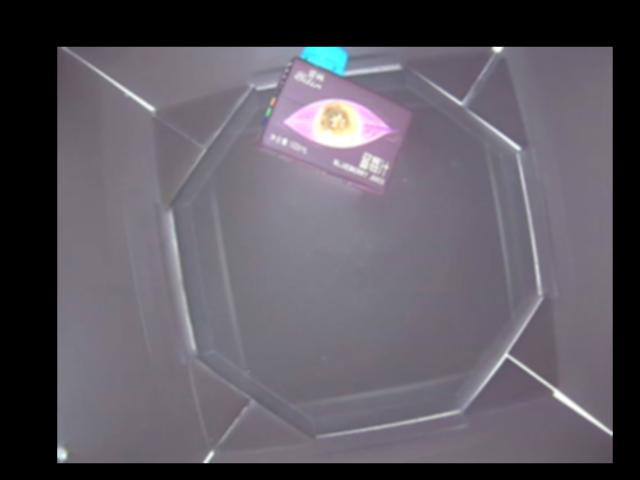Bottle: (260, 47, 413, 195)
